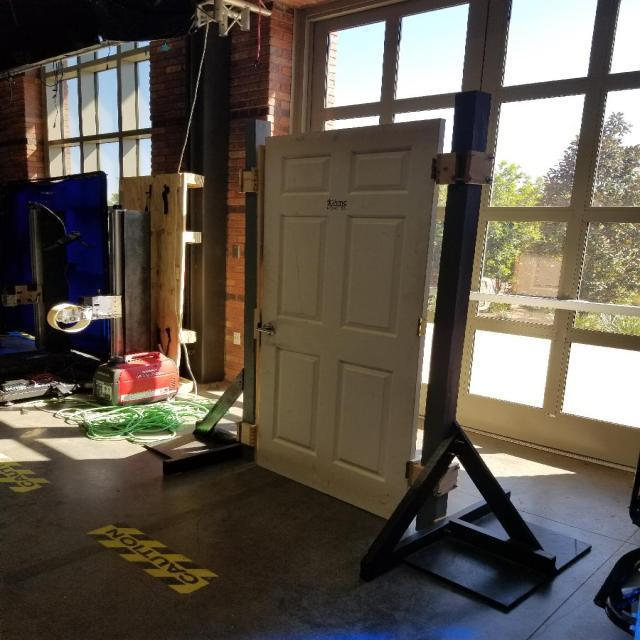door: (252, 117, 446, 537), (256, 322, 286, 335)
